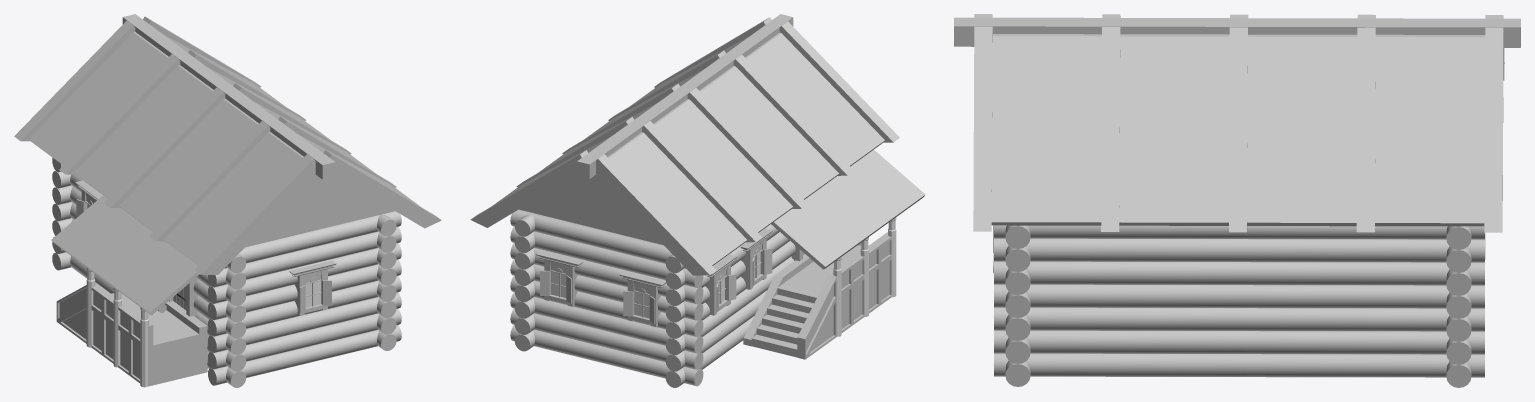
File: main_house.fbx
3 renders of one model, left to right at view 1: azimuth 30°, elevation 25°; view 2: azimuth 150°, elevation 25°; view 3: azimuth 270°, elevation 25°, orthographic. The views are drawn at different scales.
Parts seen in each view (by area): view 1: Roof_sceleton; view 2: Roof_sceleton; view 3: Roof_sceleton.
Part boxes in pixels (x1=…): Roof_sceleton: x1=14, y1=14, x2=441, y2=387; Roof_sceleton: x1=470, y1=14, x2=925, y2=387; Roof_sceleton: x1=954, y1=14, x2=1520, y2=387.
Bounding box in the file's own units: 902 × 668 × 1125.
